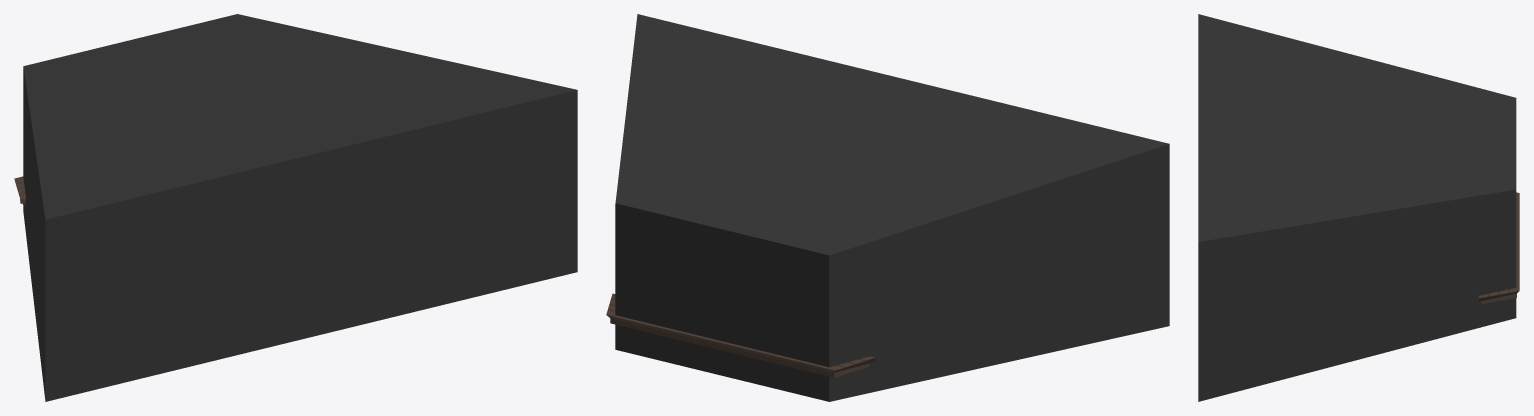
The model's file is room.gltf.
3 views of the same model, side by side, from view 1: azimuth 30°, elevation 25°; view 2: azimuth 150°, elevation 25°; view 3: azimuth 270°, elevation 25° (orthographic). The views are drawn at different scales.
Parts seen in each view (by area): view 1: walls; view 2: walls; view 3: walls.
Part boxes in pixels (<box>): walls: <box>14,14,577,401</box>; walls: <box>606,14,1169,401</box>; walls: <box>1198,14,1519,401</box>.
Bounding box in the file's own units: 12.26 × 4.01 × 7.3.
Materials: 1 (1 with a texture image).
